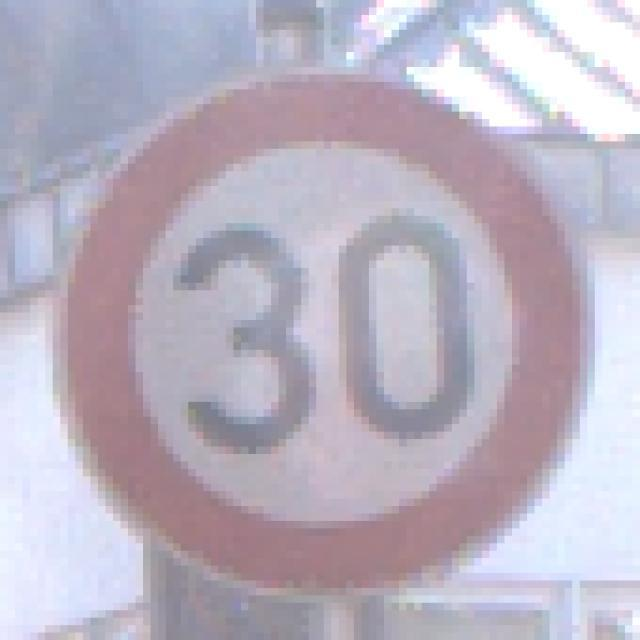Speed Limit -30-: (49, 48, 584, 577)
